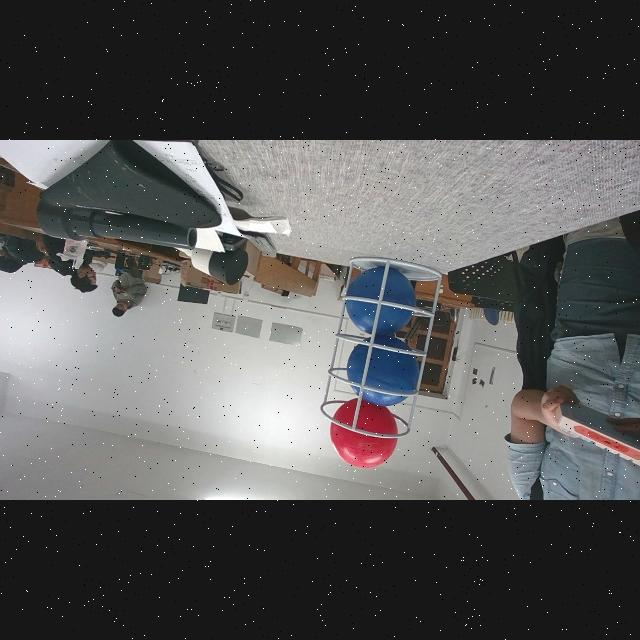B: (347, 334, 421, 406), (344, 266, 416, 336)
R: (329, 397, 398, 469)
S: (318, 256, 440, 439)
